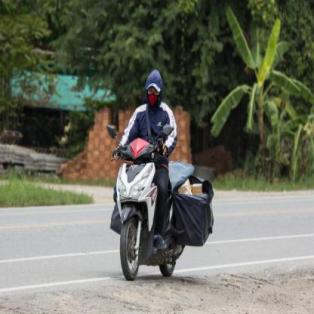Motocicleta: (104, 120, 189, 290)
